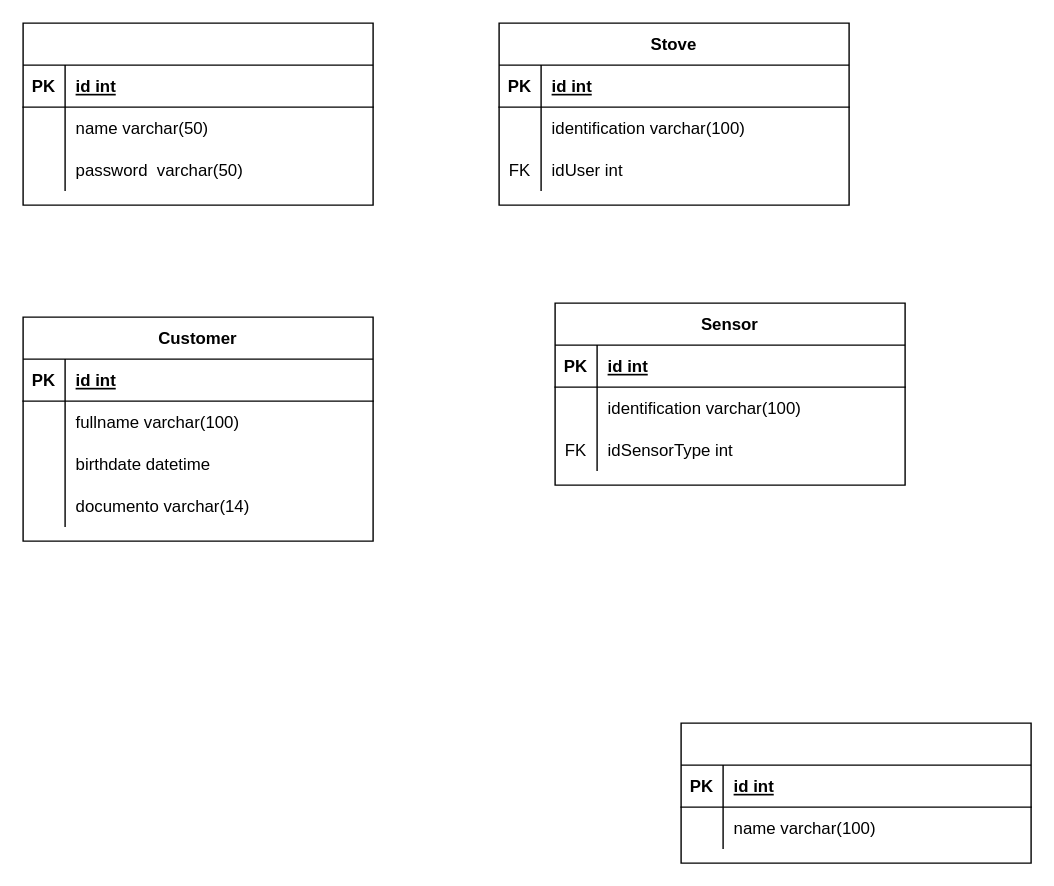
The diagram is 1054 pixels wide and 886 high, and some of its shapes have lost their labels. Here are the shapes that lost their labels. From the top down, the box of each, then its label:
(22, 22, 373, 205): User
(680, 722, 1031, 863): SensorType
